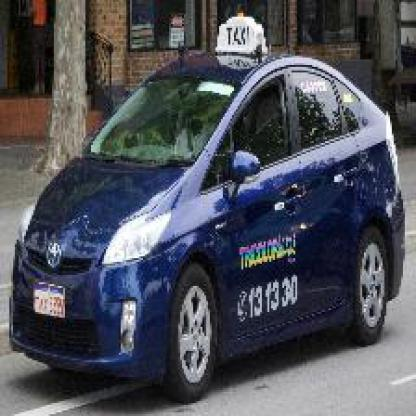not_emergency: (13, 11, 414, 383)
